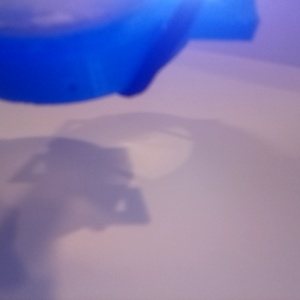alive_ball: (49, 3, 82, 32), (28, 6, 53, 28)
